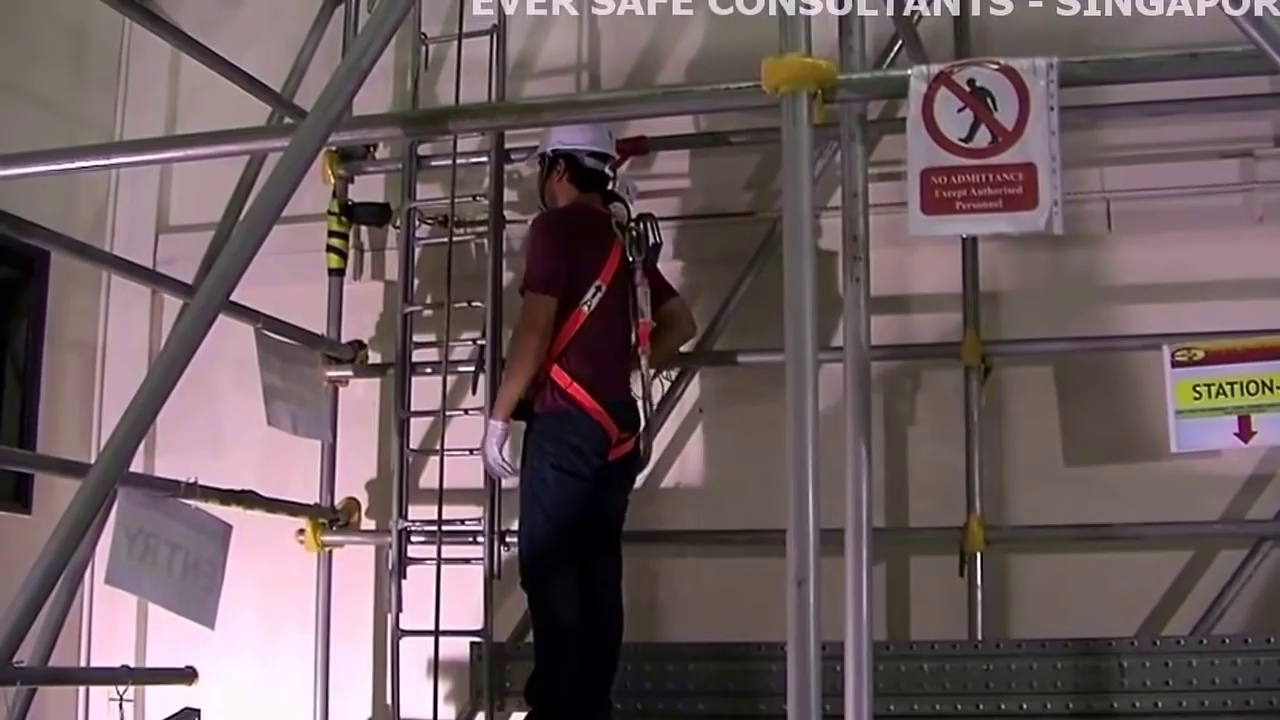harness: (566, 219, 655, 453)
helmet: (537, 121, 619, 152)
